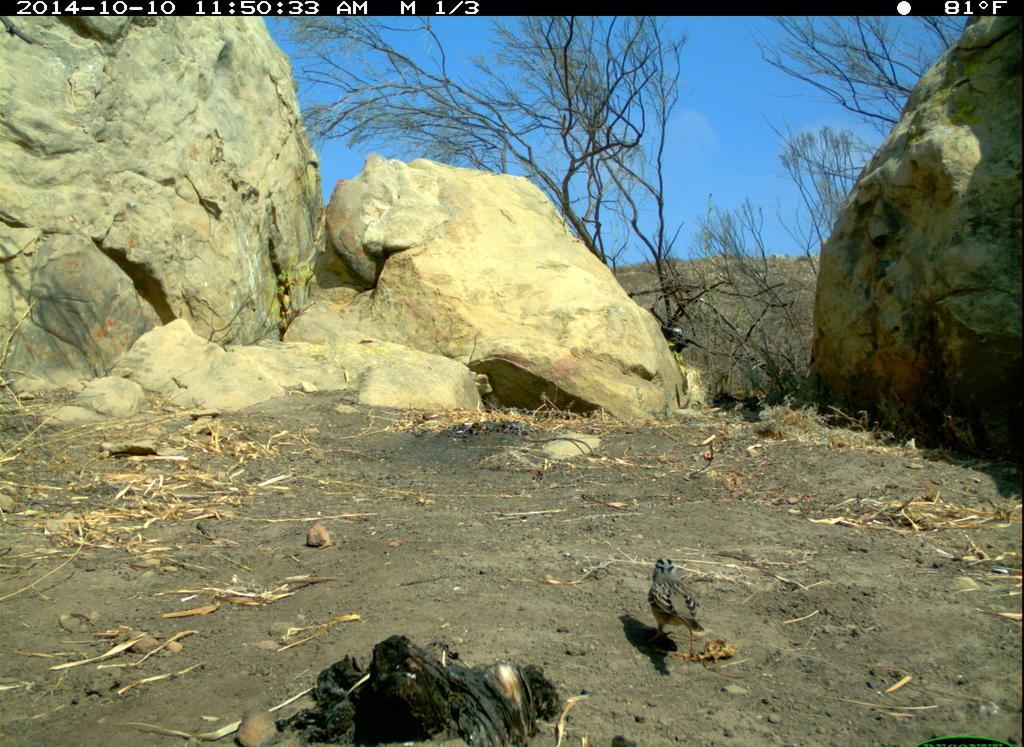bird: (638, 551, 722, 669)
